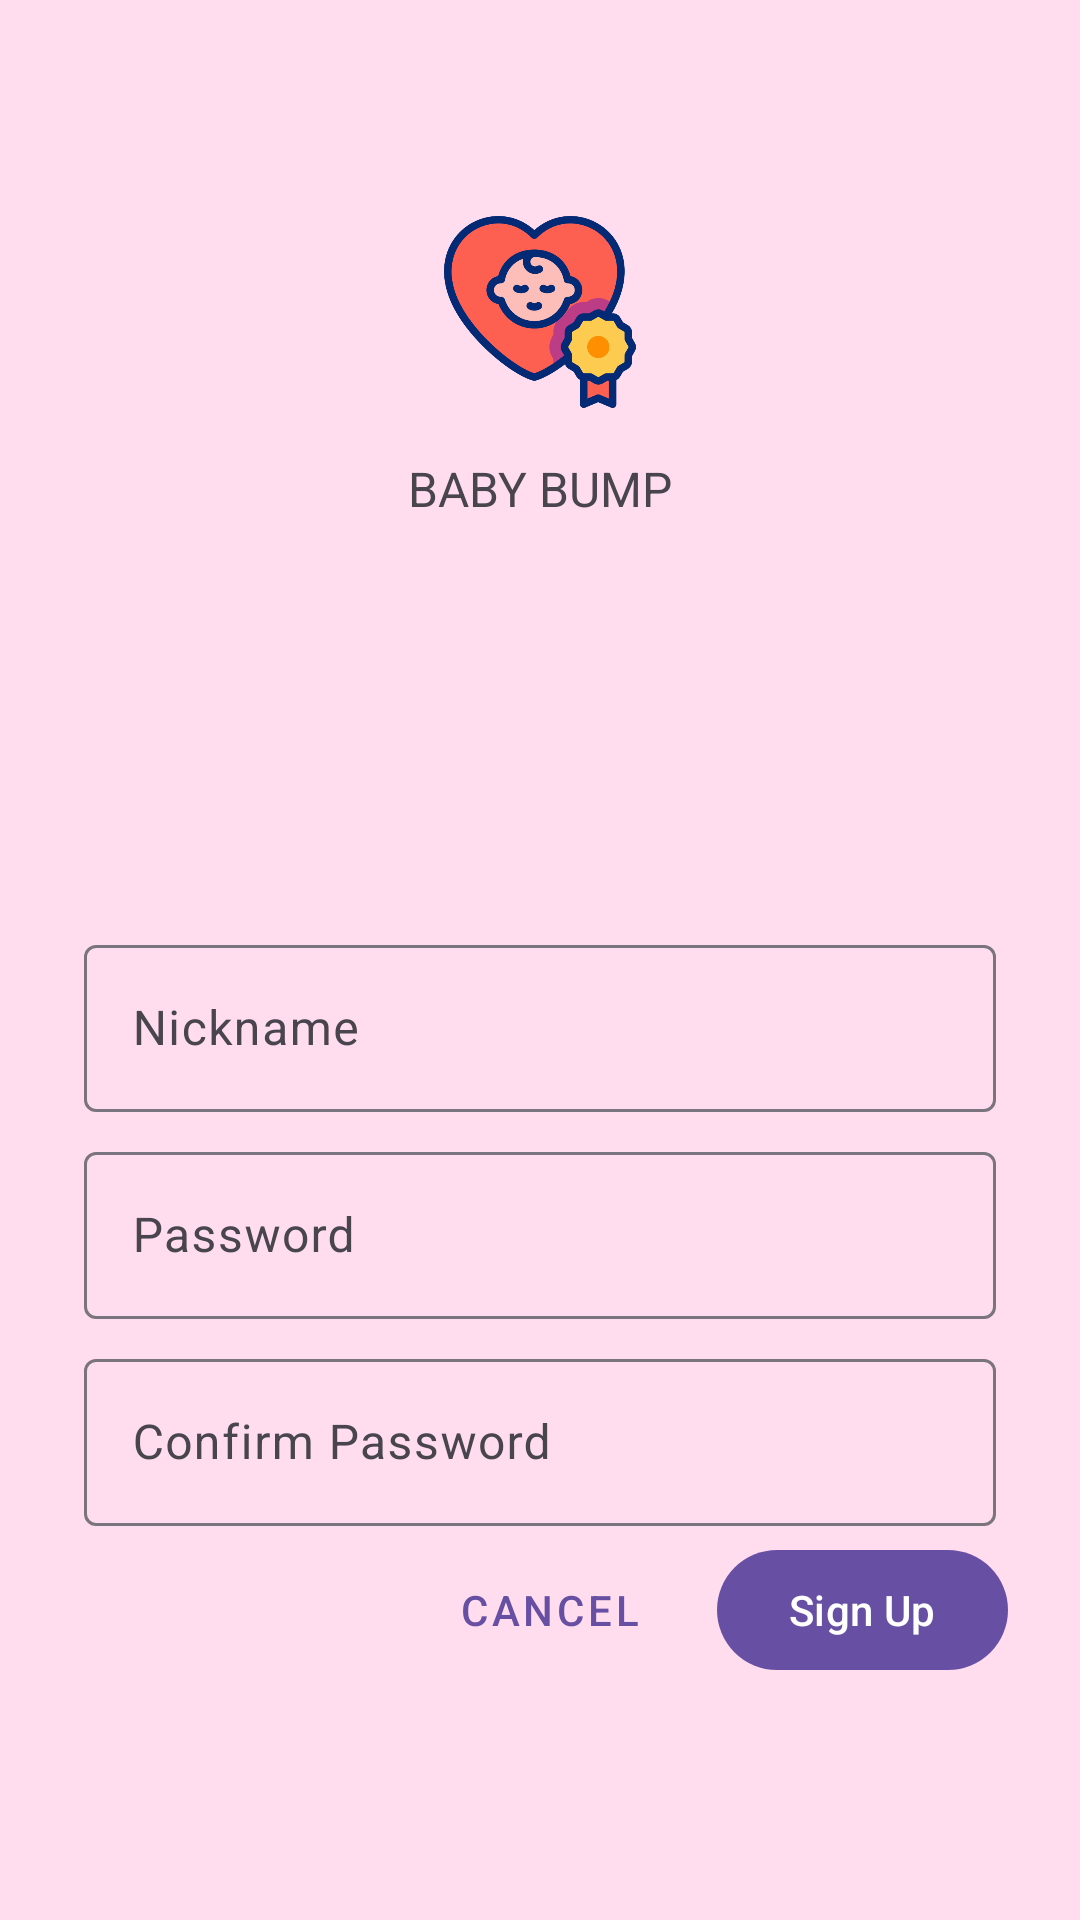

Point at icon controls on the screen. Image size 1080×1920, points as (x=x, y=y).
certified: (x=540, y=312)
